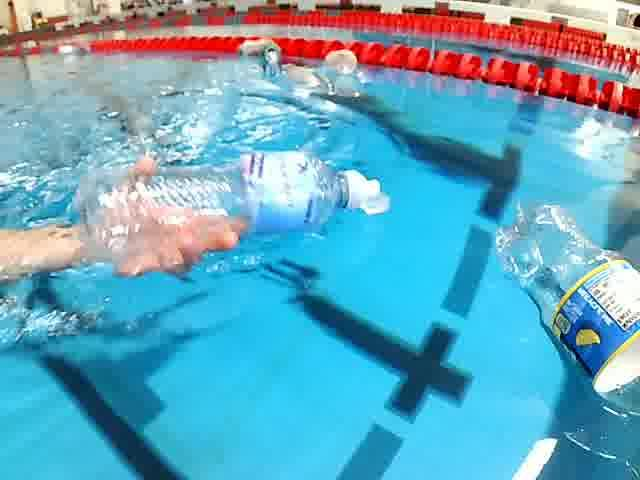Bottle: (73, 145, 388, 265), (490, 198, 640, 432)
Can: (257, 42, 292, 69)
